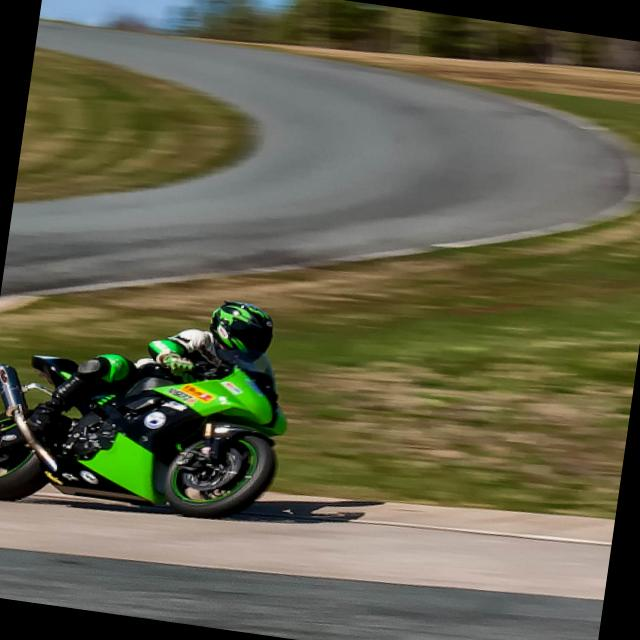Vehicle: (0, 322, 294, 539)
